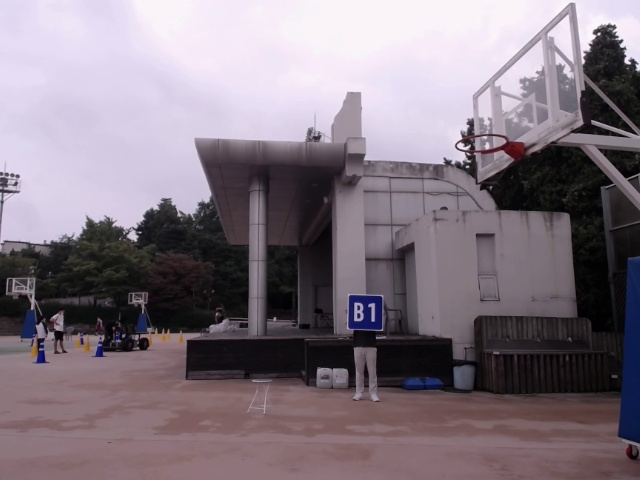delivery_b1: (348, 294, 383, 331)
